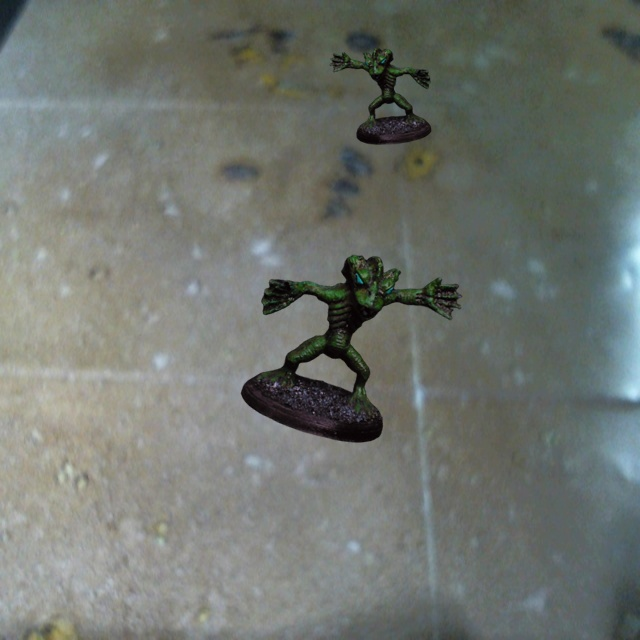pieza_juego: (241, 255, 461, 442), (329, 48, 431, 144)
